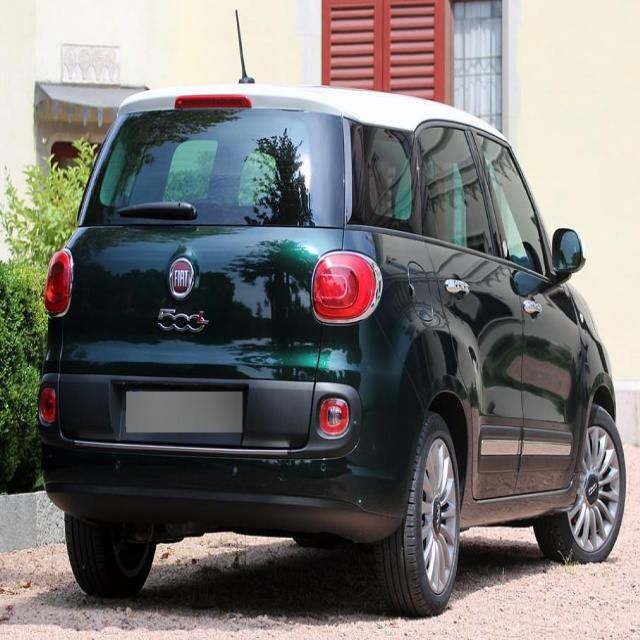back_glass: (78, 107, 354, 234)
back_left_side_light: (42, 247, 76, 320)
back_right_side_light: (309, 245, 386, 328)
door: (410, 118, 526, 490)
front_right_side_door: (468, 122, 579, 514)
front_right_side_mirror: (551, 226, 587, 288)
rear_bumper: (36, 367, 405, 544)
wheel: (369, 410, 460, 617), (532, 408, 627, 558), (62, 510, 160, 597)
